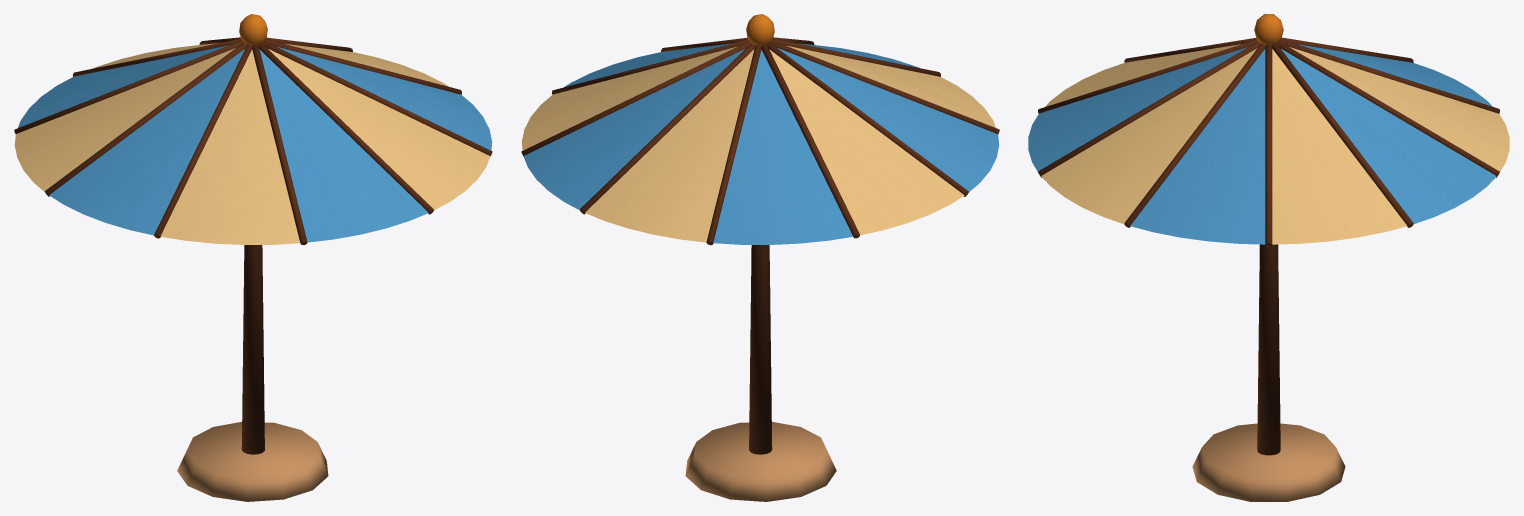
File: parasol-e0r_aEAC.glb
3 renders of one model, left to right at view 1: azimuth 30°, elevation 25°; view 2: azimuth 150°, elevation 25°; view 3: azimuth 270°, elevation 25°, orthographic.
Parts seen in each view (by area): view 1: parasol; view 2: parasol; view 3: parasol.
Part boxes in pixels (x1,y1,x2,y2): parasol: (14, 14, 492, 501); parasol: (521, 14, 999, 501); parasol: (1028, 14, 1509, 501).
Size of the model in its own units: 2.6 by 2.72 by 2.6.
